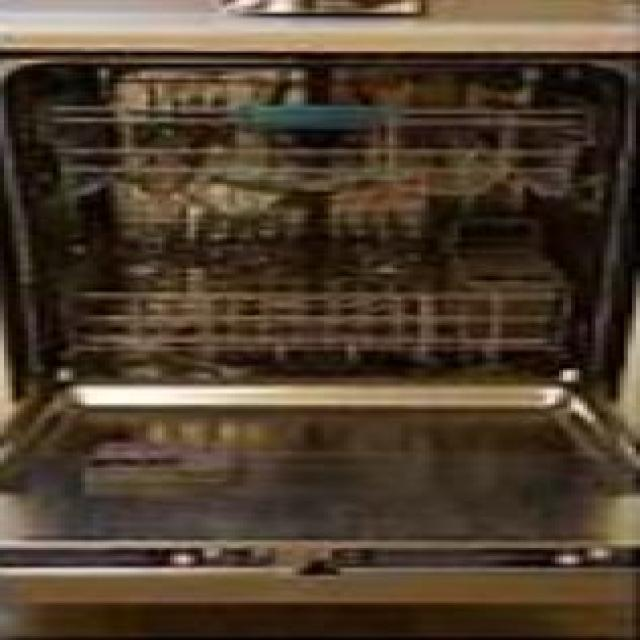dishwasher: (0, 45, 636, 607)
